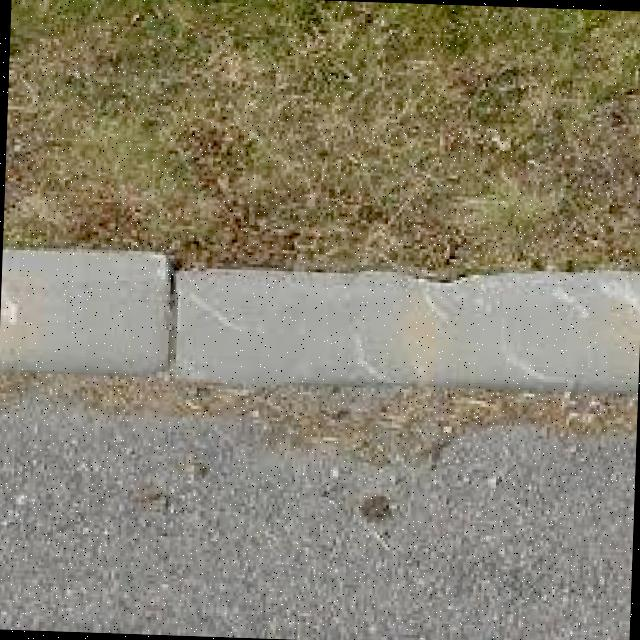curb: (1, 256, 634, 404)
